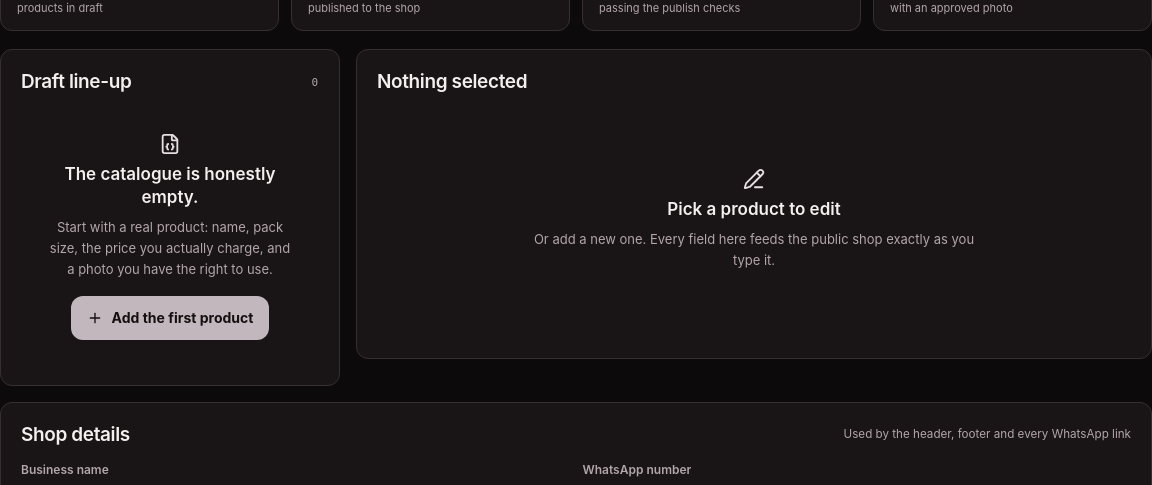
Test: catalogue studio › warns about medical claims as they are typed
(page scrolled)
Step 1. Click the button "Add the first product" → click(170, 318), box [71, 296, 269, 340]
(page scrolled)
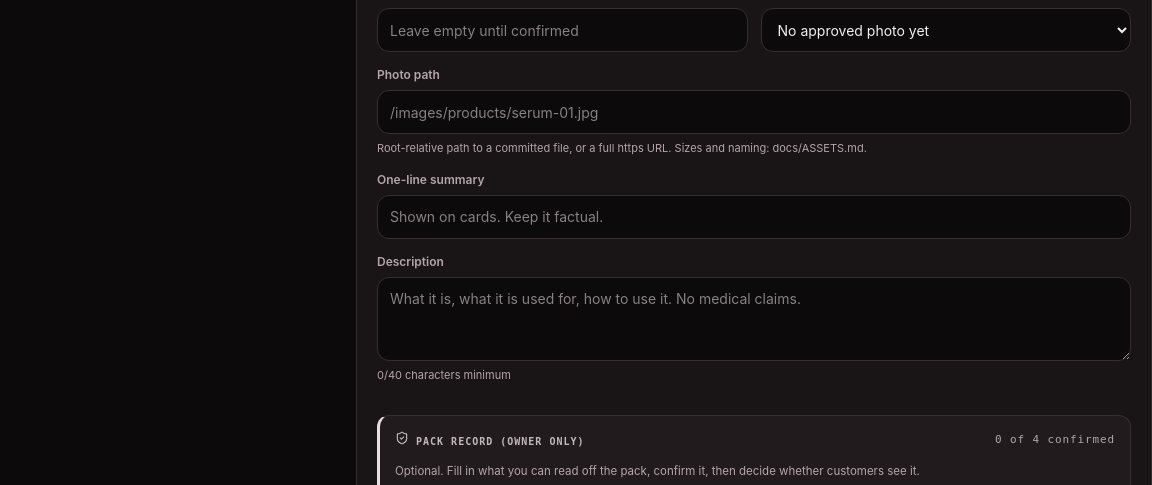
Step 2. Replace the text in the text box with placeholder "Description 0/40 characters minimum" with "This serum cures acne and gives permanent results for everyone who uses it daily." → (754, 319), box [377, 277, 1131, 361]
(page scrolled)
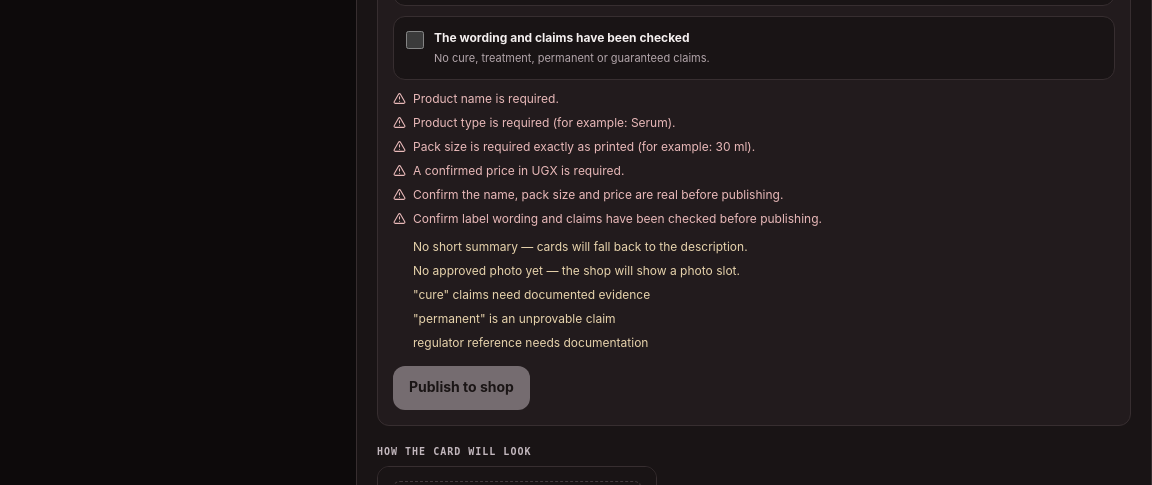
Now the list item "\"cure\" claims need documented evidence" is shown, box [413, 286, 650, 302]
Now the list item "\"permanent\" is an unprovable claim" is shown, box [413, 310, 616, 326]
